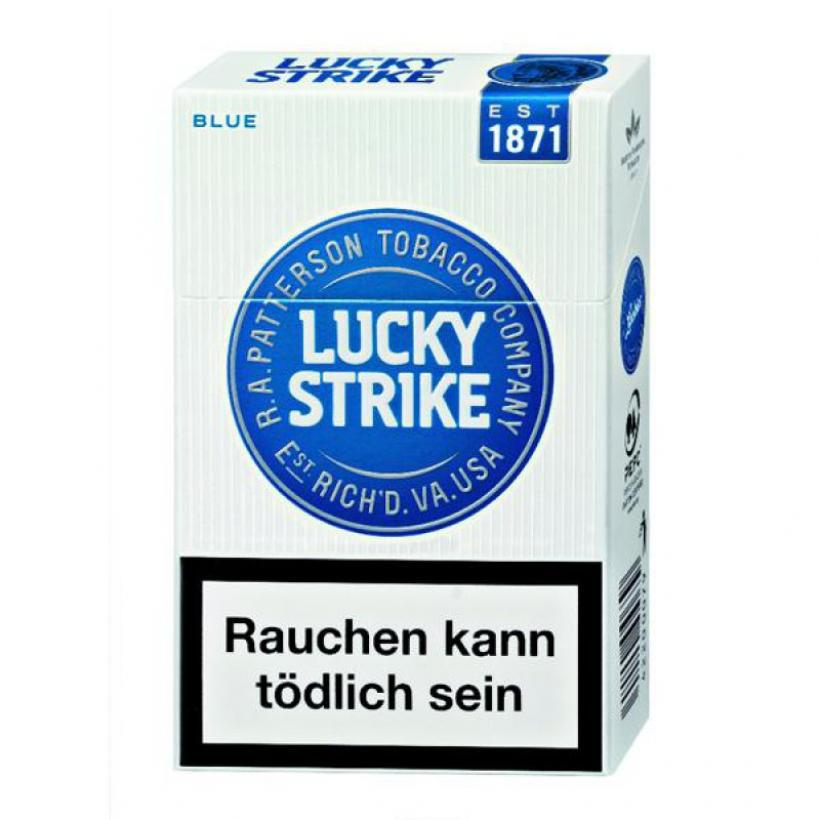lucky_strike_blue: (172, 92, 606, 774)
